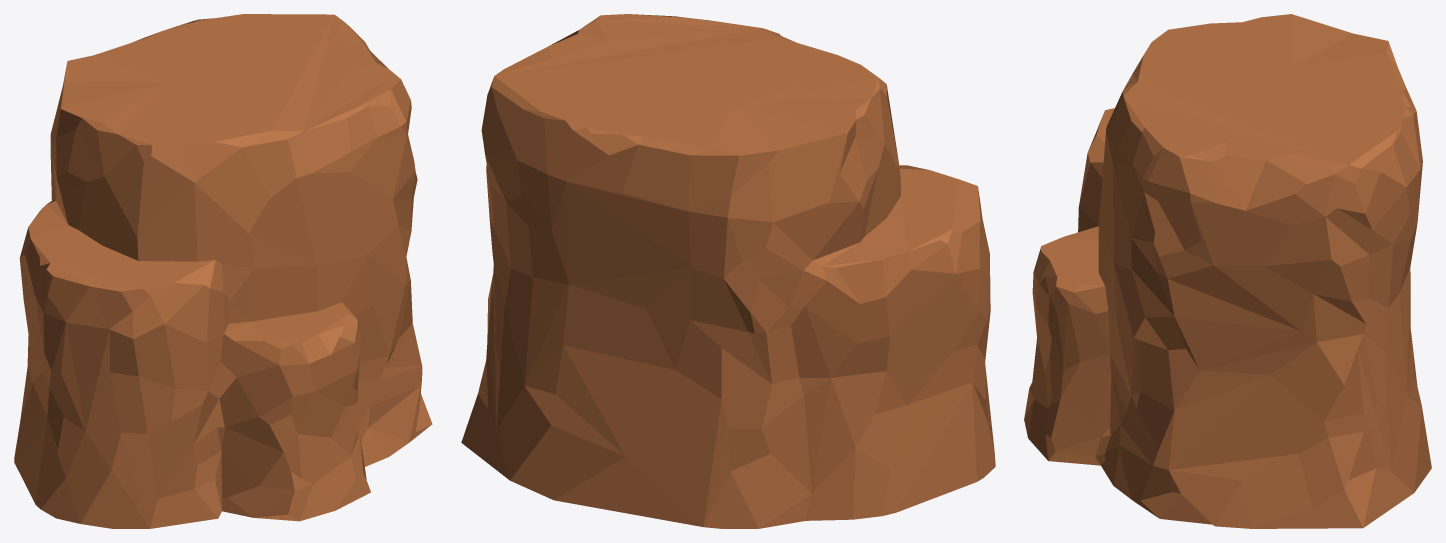
The model's file is Rock2.fbx.
The picture shows the model from 3 angles, left to right: view 1: azimuth 30°, elevation 25°; view 2: azimuth 150°, elevation 25°; view 3: azimuth 270°, elevation 25°; orthographic projection. The views are drawn at different scales.
Parts seen in each view (by area): view 1: Rock2; view 2: Rock2; view 3: Rock2.
Part boxes in pixels (box(x1,y1,x2,y2)): Rock2: box(14, 14, 432, 528); Rock2: box(461, 14, 995, 528); Rock2: box(1024, 14, 1431, 528).
Size of the model in its own units: 185 by 151 by 159.
